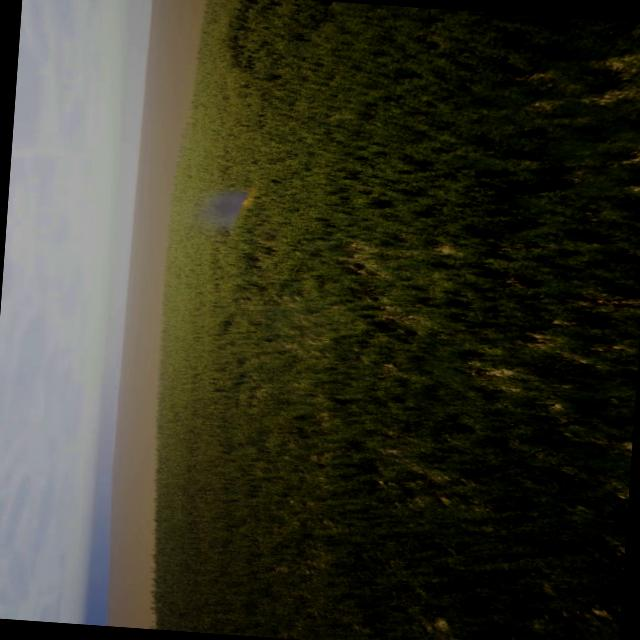smoke: (196, 182, 253, 230)
